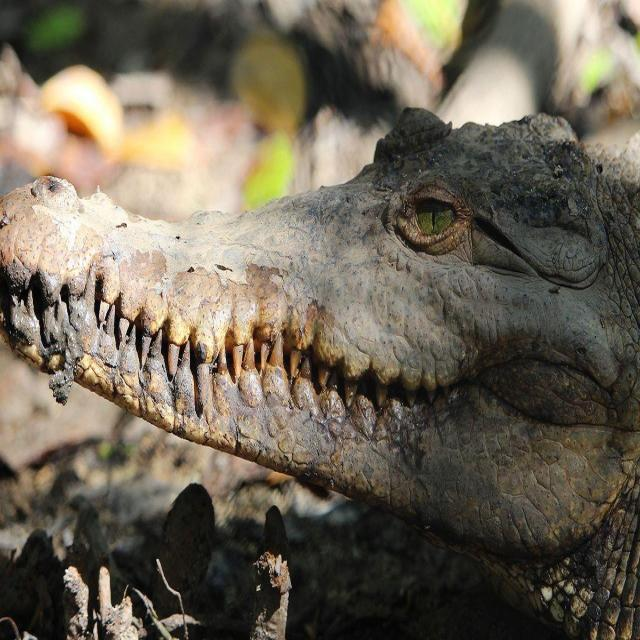crocodile: (0, 45, 640, 639)
